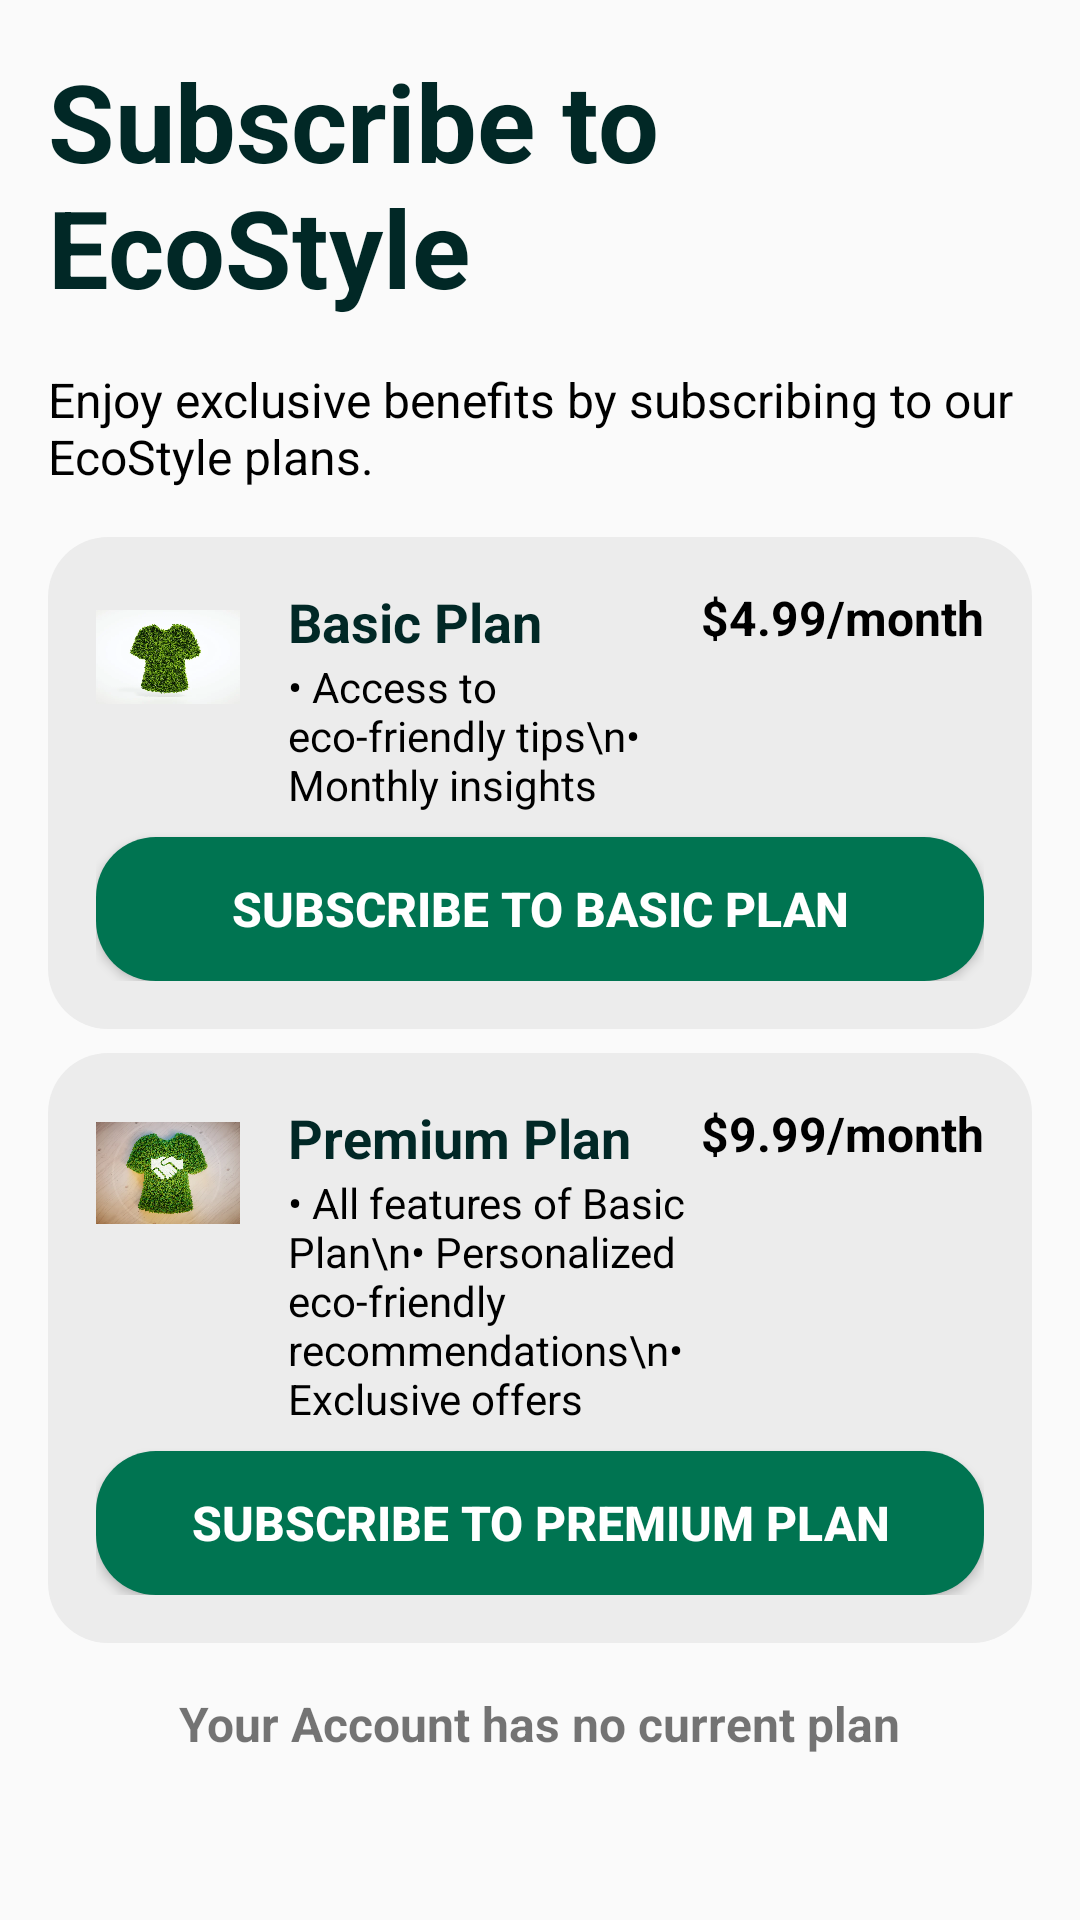

Point at icon controls on the screen. Image size 1080x1920, points as point (x, y).
Plan 1 Icon: point (165, 659)
Plan 2 Icon: point (168, 1173)
